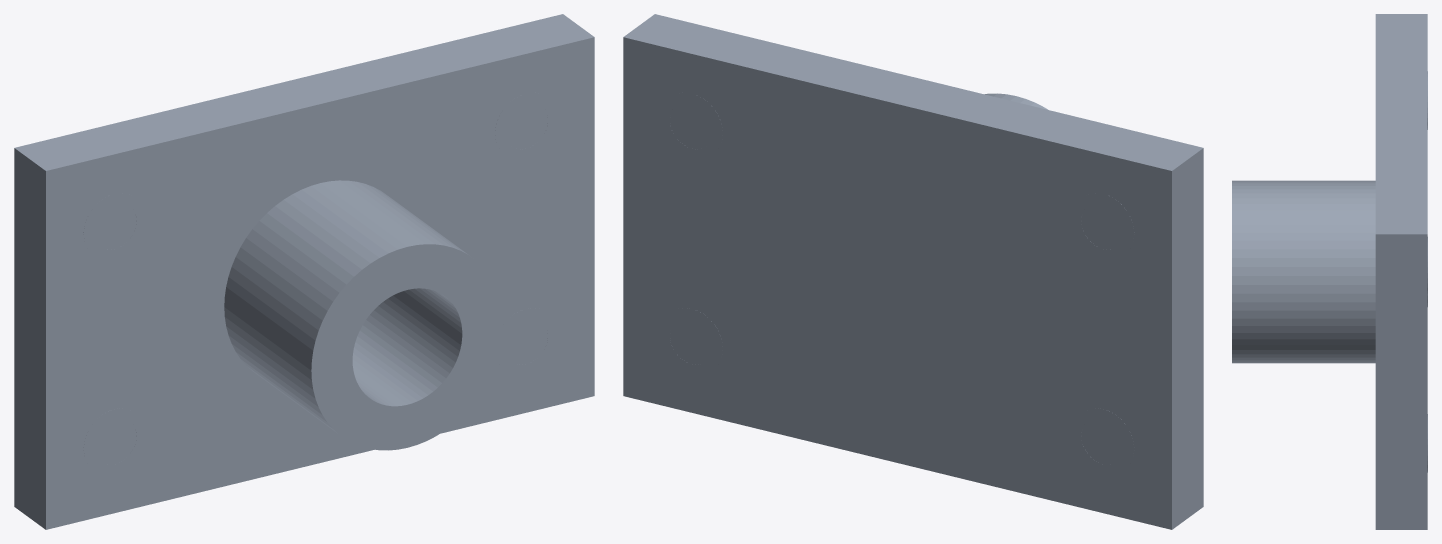
The model's file is bracket.obj.
The picture shows the model from 3 angles, left to right: view 1: azimuth 30°, elevation 25°; view 2: azimuth 150°, elevation 25°; view 3: azimuth 270°, elevation 25°; orthographic projection. The views are drawn at different scales.
Visible parts, largest first — view 1: bracket; view 2: bracket; view 3: bracket.
Boxes of the visible parts, x1=… form: bracket: x1=14, y1=14, x2=594, y2=529; bracket: x1=623, y1=14, x2=1203, y2=529; bracket: x1=1232, y1=14, x2=1427, y2=529.
Bounding box in the file's own units: 80 × 50 × 30.01.
